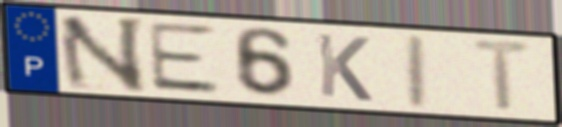6: (231, 25, 299, 101)
E: (144, 19, 224, 96)
I: (402, 31, 432, 112)
K: (313, 31, 375, 105)
N: (54, 15, 148, 94)
T: (468, 37, 540, 115)
